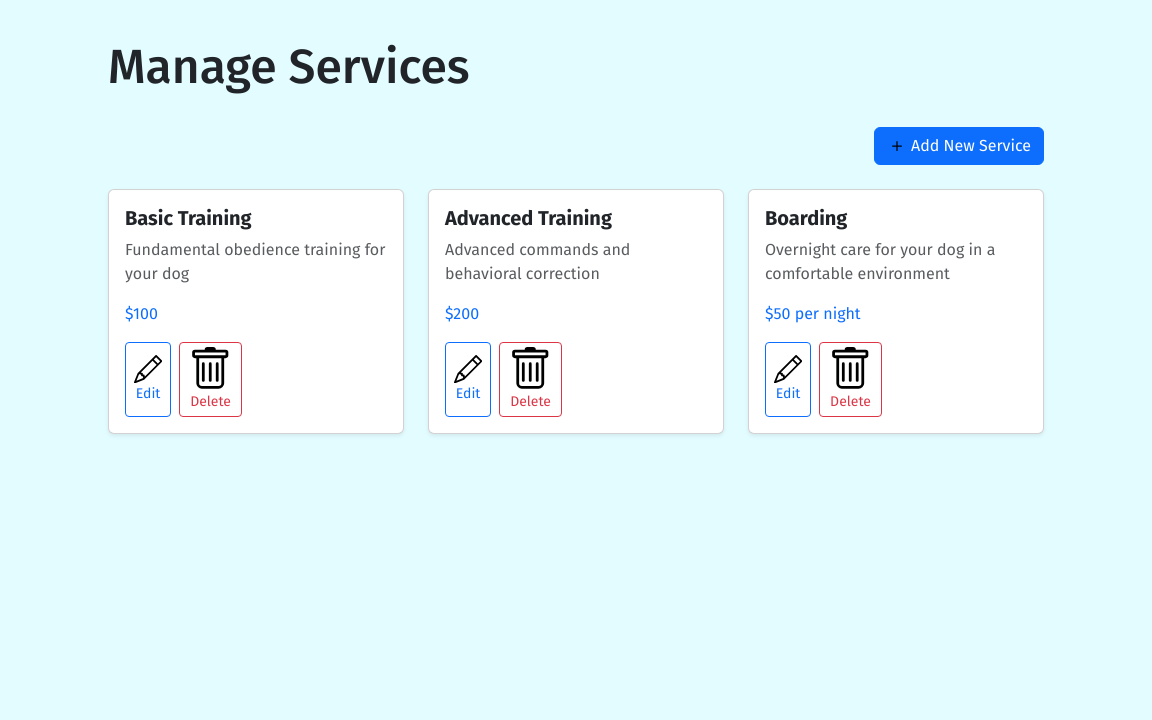
Test: ManageServices Component › opens edit service modal with service data
expect the text "Basic Training" is shown: met, box left=125, top=206, right=252, bottom=230
Find and click the Edit button for the first service
Click the button "Edit" below "$100" at (148,379), box left=125, top=342, right=171, bottom=417
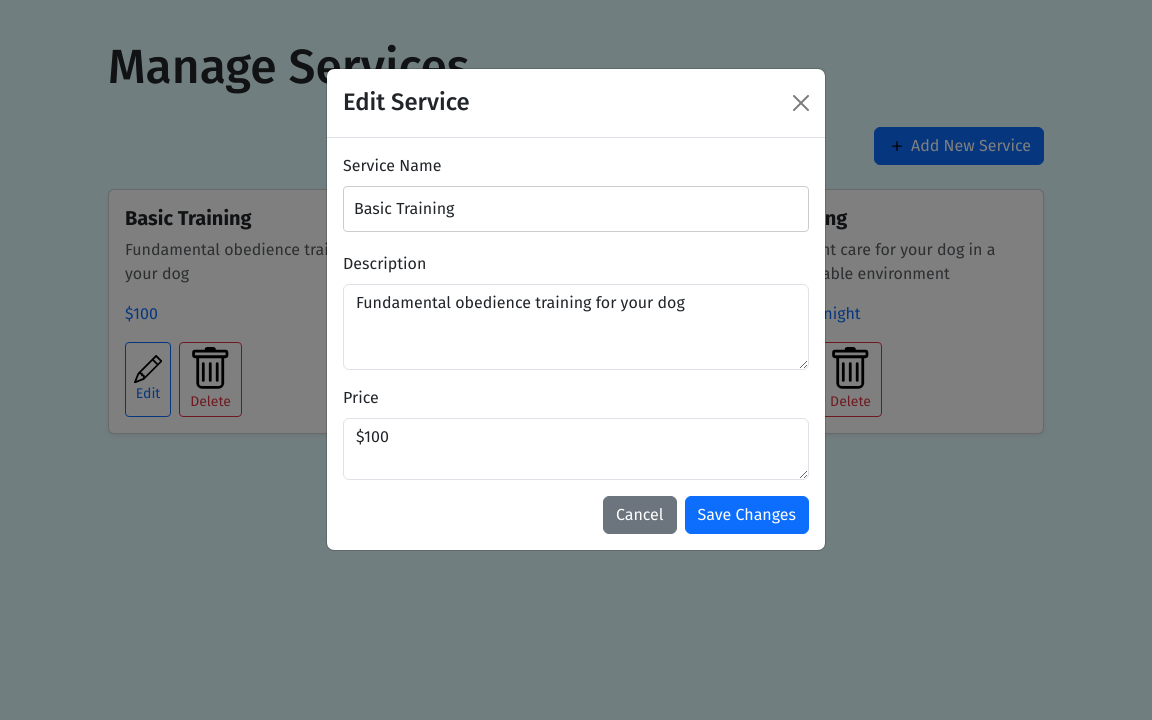
expect the text "Edit Service" is shown: met, box left=343, top=85, right=470, bottom=121
expect the field labelled "Service Name" holds "Basic Training": met, box left=343, top=186, right=809, bottom=232
expect the text box labelled "Description" holds "Fundamental obedience training for your dog": met, box left=343, top=284, right=809, bottom=370
